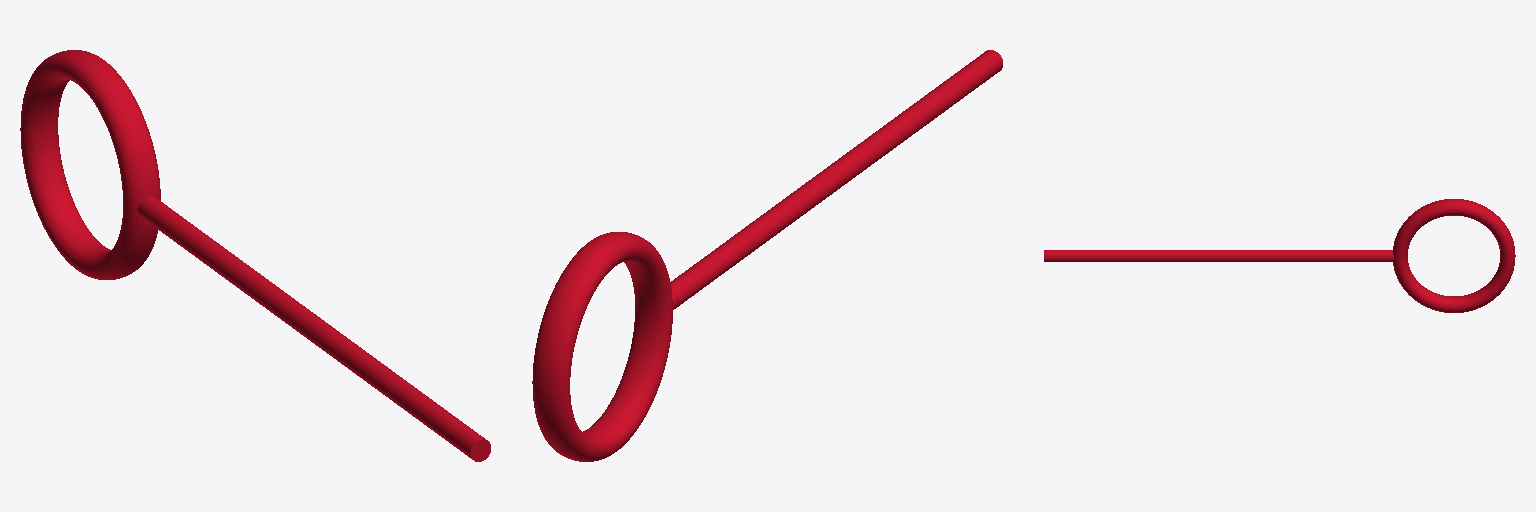
The robot description file, URDF, robot "ring":
<?xml version="0.0" ?>
<robot name="ring">
    <material name="red">
        <color rgba="0.8 0.1 0.2 1"/>
    </material>

    <link name="baseLink">
        <!-- from lego/lego.urdf -->
        <contact>
            <lateral_friction value="1.0"/>
            <rolling_friction value="0.0"/>
            <contact_cfm value="0.0"/>
            <contact_erp value="1.0"/>
        </contact>
        <inertial>
            <origin rpy="0 0 0" xyz="0 0 0"/>
            <mass value="0.01"/>
            <inertia ixx="1" ixy="0" ixz="0" iyy="1" iyz="0" izz="1"/>
        </inertial>
        <visual>
            <origin rpy="0 0 0" xyz="0 0 0"/>
            <geometry>
                <!--        radius: 10mm, depth: 14.5mm-->
                <mesh filename="meshes/ring_cyl.obj" scale="1 1 1"/>
                <!--        <box size="0.002 0.002 0.002"/>-->
            </geometry>
            <material name="red"/>
        </visual>
        <collision>
            <origin rpy="0 0 0" xyz="0 0 0"/>
            <geometry>
                <mesh filename="meshes/ring_cyl_vhacd.obj" scale="1 1 1"/>
                <!--        <box size="0.002 0.002 0.002"/>-->
            </geometry>
        </collision>
    </link>

    <!-- for testing get linkstate -->
    <link name="waypoint_0">
        <!--    origin-->
        <inertial>
            <origin rpy="0 0 0" xyz="0 0 0"/>
            <mass value=".0"/>
            <inertia ixx="0." ixy="0" ixz="0" iyy="0." iyz="0" izz="0."/>
        </inertial>
    </link>

    <joint name="waypoint_joint_0" type="fixed">
        <parent link="baseLink"/>
        <child link="waypoint_0"/>
        <origin rpy="0 0 0" xyz="0 0 0"/>
    </joint>

    <link name="waypoint_1">
        <!--    middle-->
        <inertial>
            <origin rpy="0 0 0" xyz="0 0 0"/>
            <mass value=".0"/>
            <inertia ixx="0." ixy="0" ixz="0" iyy="0." iyz="0" izz="0."/>
        </inertial>
        <!--    <visual>-->
        <!--      <origin rpy="0 0 0" xyz="0 0 0"/>-->
        <!--      <geometry>-->
        <!--        <box size="0.005 0.005 0.005"/>-->
        <!--      </geometry>-->
        <!--      <material name="grey"/>-->
        <!--    </visual>-->
    </link>

    <joint name="waypoint_joint_1" type="fixed">
        <parent link="baseLink"/>
        <child link="waypoint_1"/>
        <!--    (-R, 0, 0)-->
        <origin rpy="0 0 0" xyz="-0.02 0 0"/>
    </joint>

    <link name="waypoint_2">
        <!--    left-->
        <inertial>
            <origin rpy="0 0 0" xyz="0 0 0"/>
            <mass value=".0"/>
            <inertia ixx="0." ixy="0" ixz="0" iyy="0." iyz="0" izz="0."/>
        </inertial>
    </link>

    <joint name="waypoint_joint_2" type="fixed">
        <parent link="baseLink"/>
        <child link="waypoint_2"/>
        <!--    (-sqrt(2)R/2, -sqrt(2)R/2, 0)-->
        <origin rpy="0 0 0.785398" xyz="-0.0141421 -0.0141421 0"/>
    </joint>

    <link name="waypoint_3">
        <!--    right-->
        <inertial>
            <origin rpy="0 0 0" xyz="0 0 0"/>
            <mass value=".0"/>
            <inertia ixx="0." ixy="0" ixz="0" iyy="0." iyz="0" izz="0."/>
        </inertial>
    </link>

    <joint name="waypoint_joint_3" type="fixed">
        <parent link="baseLink"/>
        <child link="waypoint_3"/>
        <!--    (-sqrt(2)R/2, sqrt(2)R/2, 0)-->
        <origin rpy="0 0 -0.785398" xyz="-0.0141421 0.0141421 0"/>
    </joint>

    <link name="waypoint_4">
        <!--    left 60deg-->
        <inertial>
            <origin rpy="0 0 0" xyz="0 0 0"/>
            <mass value=".0"/>
            <inertia ixx="0." ixy="0" ixz="0" iyy="0." iyz="0" izz="0."/>
        </inertial>
    </link>

    <joint name="waypoint_joint_4" type="fixed">
        <parent link="baseLink"/>
        <child link="waypoint_4"/>
        <!--    -cos(60)*R, -sin(60)*R, 0)-->
        <origin rpy="0 0 1.047197" xyz="-0.0100000 -0.0173205 0"/>
    </joint>

    <link name="waypoint_5">
        <!--    right 60deg-->
        <inertial>
            <origin rpy="0 0 0" xyz="0 0 0"/>
            <mass value=".0"/>
            <inertia ixx="0." ixy="0" ixz="0" iyy="0." iyz="0" izz="0."/>
        </inertial>
    </link>

    <joint name="waypoint_joint_5" type="fixed">
        <parent link="baseLink"/>
        <child link="waypoint_5"/>
        <!--    -cos(60)*R, sin(60)*R, 0)-->
        <origin rpy="0 0 -1.047198" xyz="-0.0100000 0.0173205 0"/>
    </joint> 
</robot>

--- Facts derived from the render (not from the file) ---
The picture shows the robot from 3 angles, left to right: view 1: azimuth 30°, elevation 25°; view 2: azimuth 150°, elevation 25°; view 3: azimuth 270°, elevation 25°; orthographic projection.
Model ring with 7 links and 6 joints (6 fixed), rooted at baseLink, posed all joints at 0.
Links seen in each view (by area): view 1: baseLink; view 2: baseLink; view 3: baseLink.
Link boxes in pixels (x1,y1,x2,y2): baseLink: (20, 50, 490, 461); baseLink: (532, 50, 1002, 461); baseLink: (1044, 199, 1515, 312).
Bounding box of the posed robot: 0.2261 × 5.12 × 1.34 m (x, y, z).
Meshes: 1 distinct files referenced, 1 mesh visuals loaded (1 OBJ).